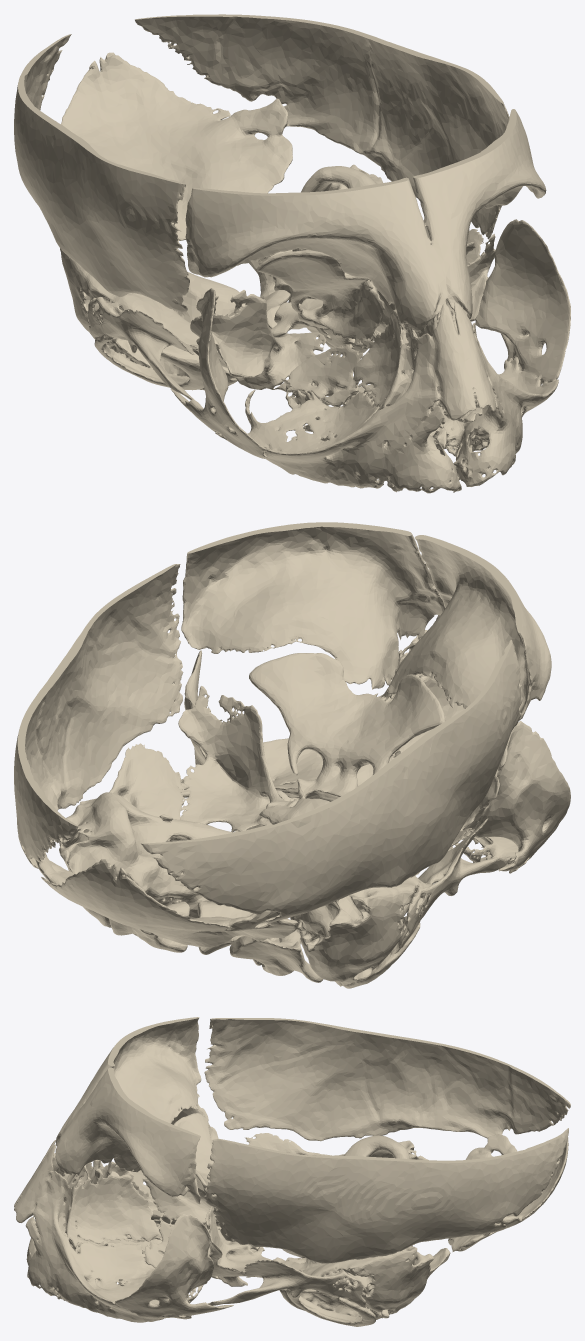
Rendered from cranium.glb.
The picture shows the model from 3 angles, top to bottom: view 1: azimuth 30°, elevation 25°; view 2: azimuth 150°, elevation 25°; view 3: azimuth 270°, elevation 25°; orthographic projection. The views are drawn at different scales.
Visible parts, largest first — view 1: CranialBase_300K.001; view 2: CranialBase_300K.001; view 3: CranialBase_300K.001.
Boxes of the visible parts, x1=… form: CranialBase_300K.001: x1=14, y1=14, x2=570, y2=493; CranialBase_300K.001: x1=14, y1=522, x2=570, y2=988; CranialBase_300K.001: x1=14, y1=1017, x2=570, y2=1326.
Bounding box in the file's own units: 24.92 × 18.9 × 41.94.
